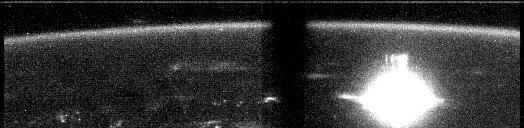positive: (384, 52, 411, 74)
